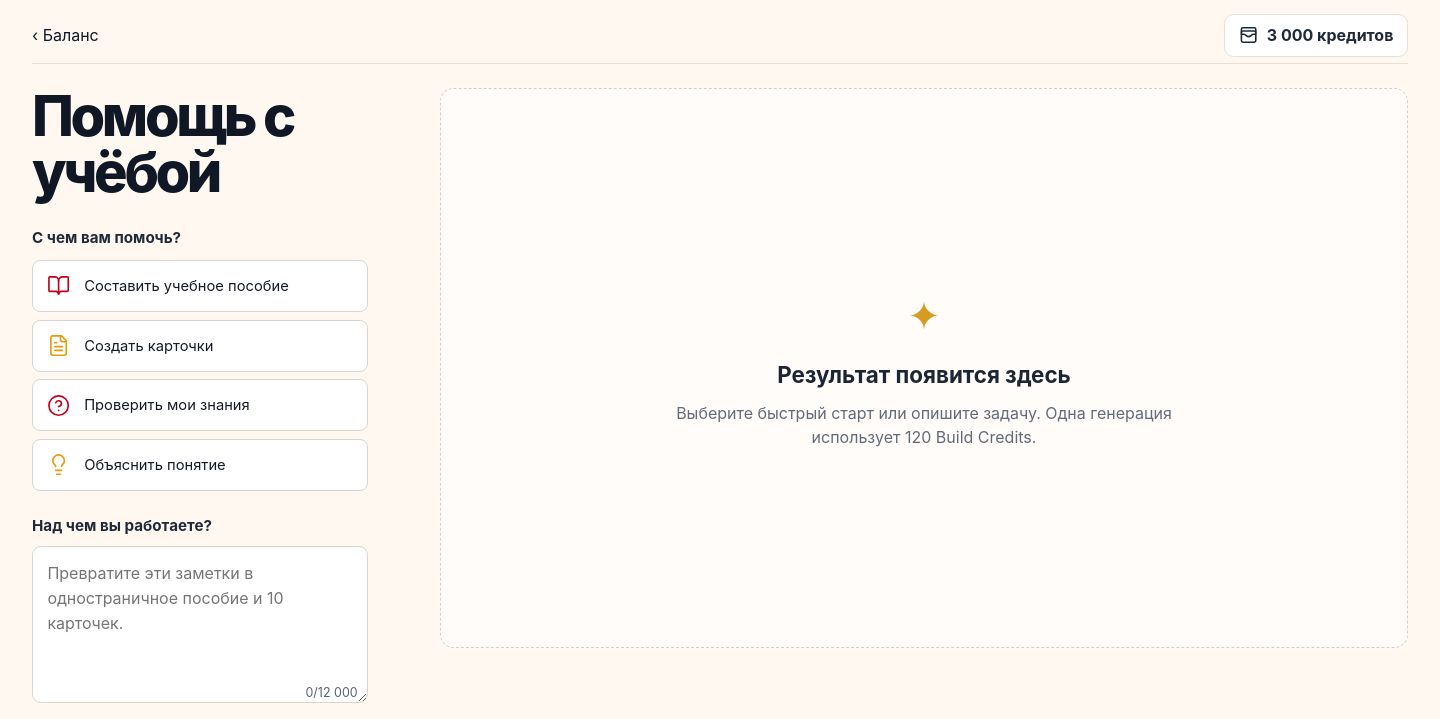
Test: TaskShell › maps a paused save response to localized pause guidance in ru
This screenshot has width=1440, height=719.
Click the button "Составить учебное пособие" at (200, 286), box [32,260,368,312]
(page scrolled)
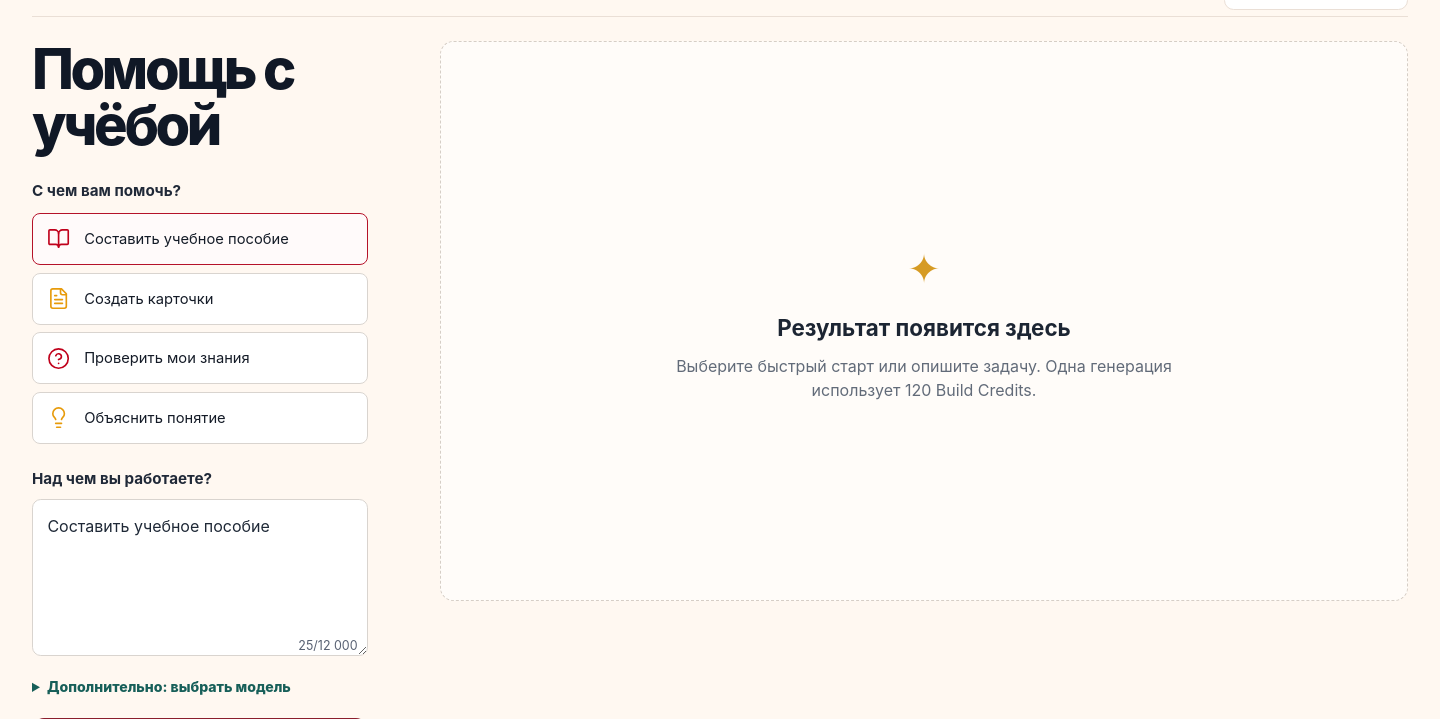
Submit the form
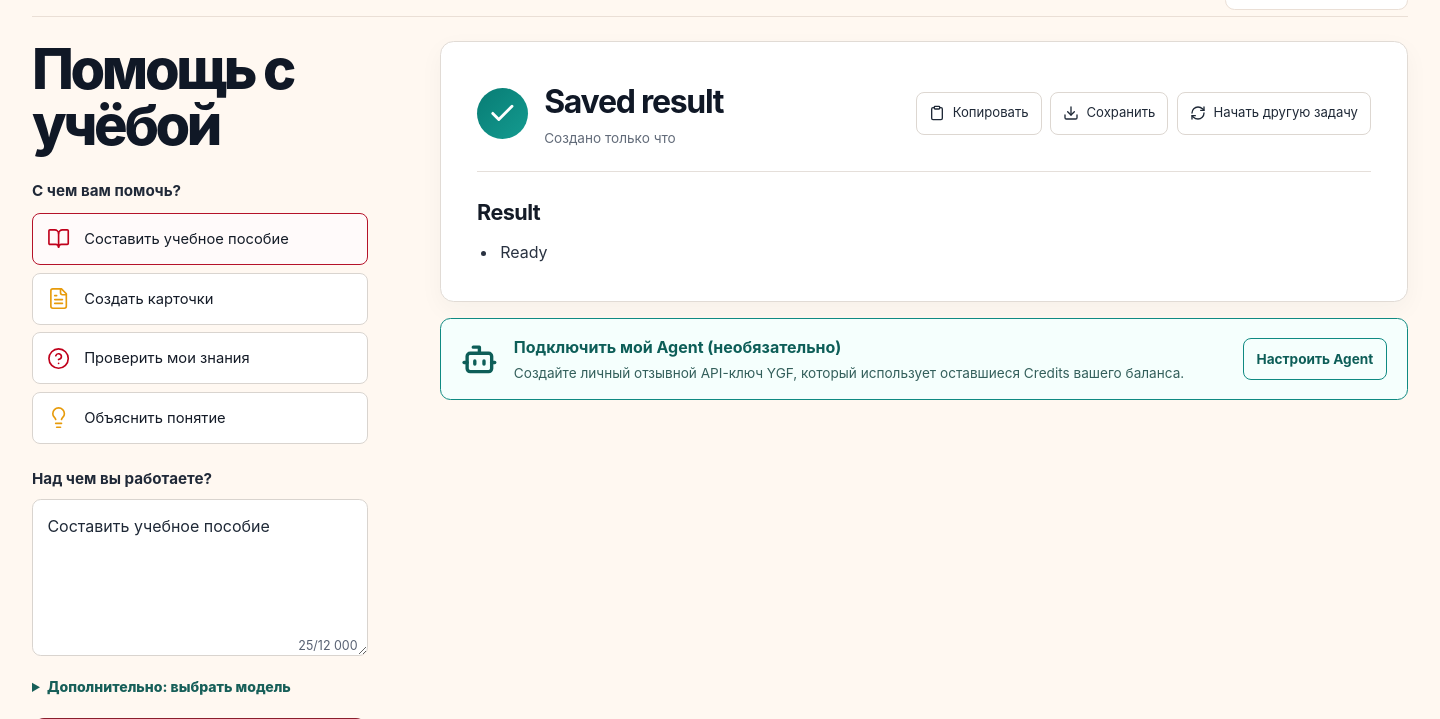
expect the button "Сохранить" is shown: met
Click the button "Сохранить" at (1109, 113), box [1050,92,1168,135]
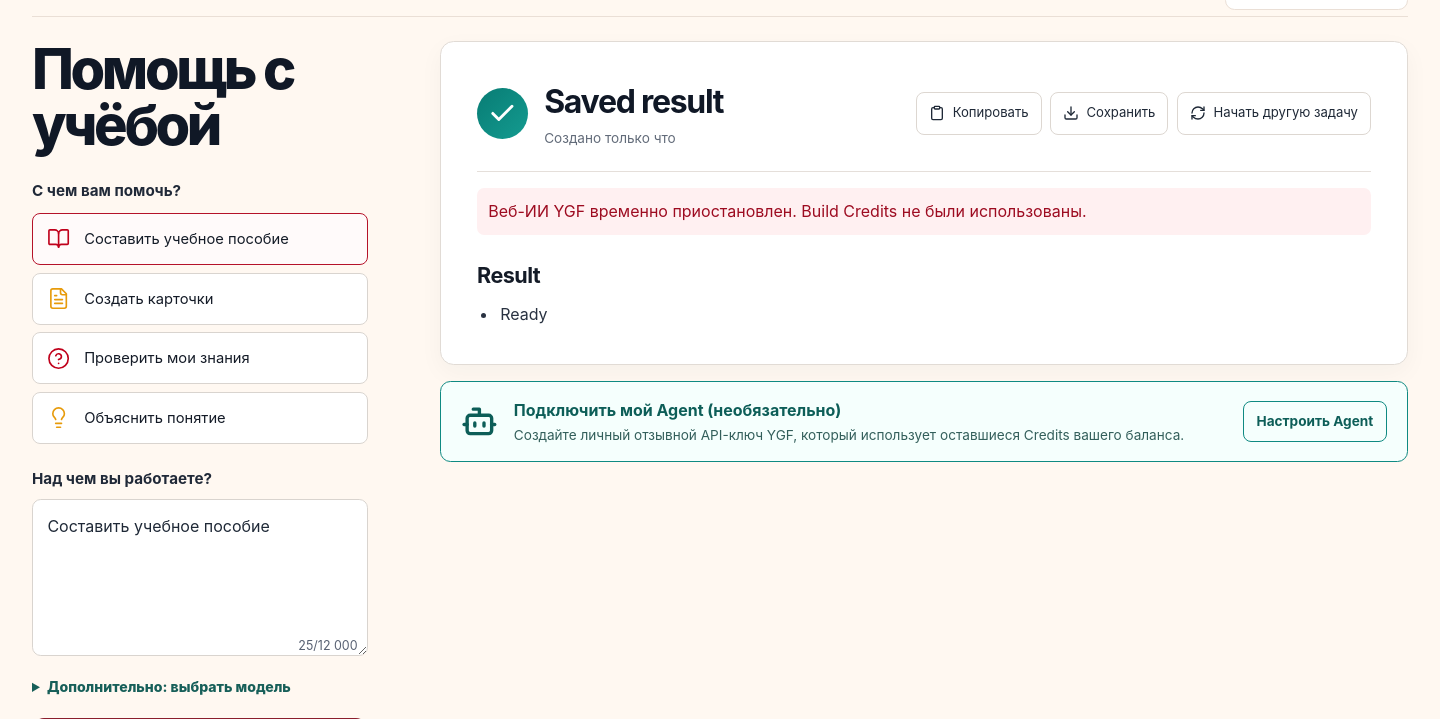
expect the text "Веб-ИИ YGF временно приостановлен. Build Credits не были использованы." is shown: met, box [477,188,1371,235]
